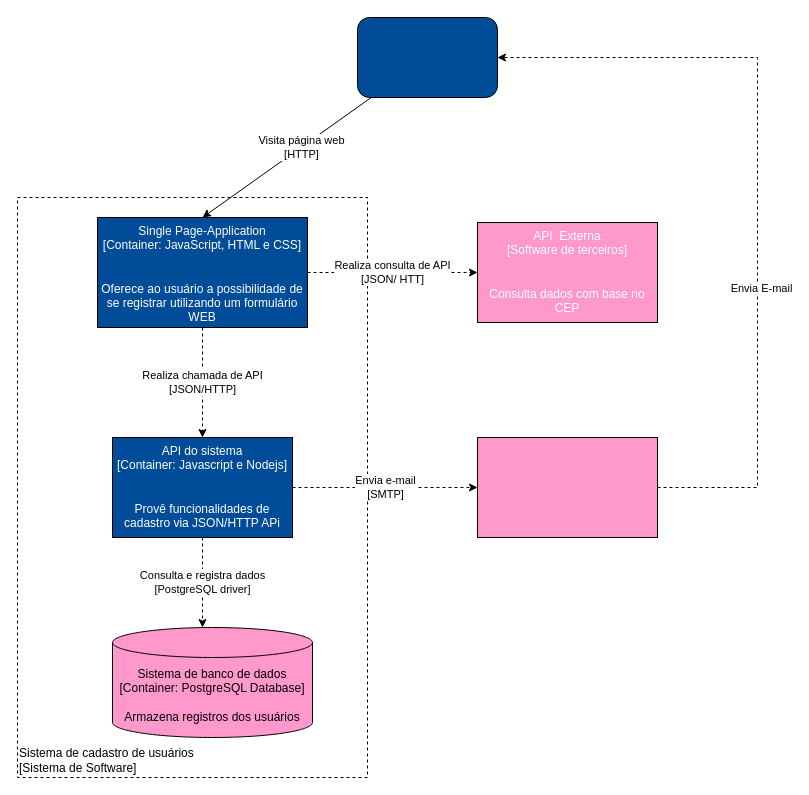
The diagram is 809 pixels wide and 795 high, and some of its shapes have lost their labels. The shapes that lost their labels are listed below. From the top down, each one's centre as x and y in pixels, then its label:
the point at 427,57: Usuário do Sistema [Pessoa] Usuário do sistema que deseja realizar cadastro
the point at 567,487: Serviço de e-mails [Serviço de software] Servidor para envio de e-mails
